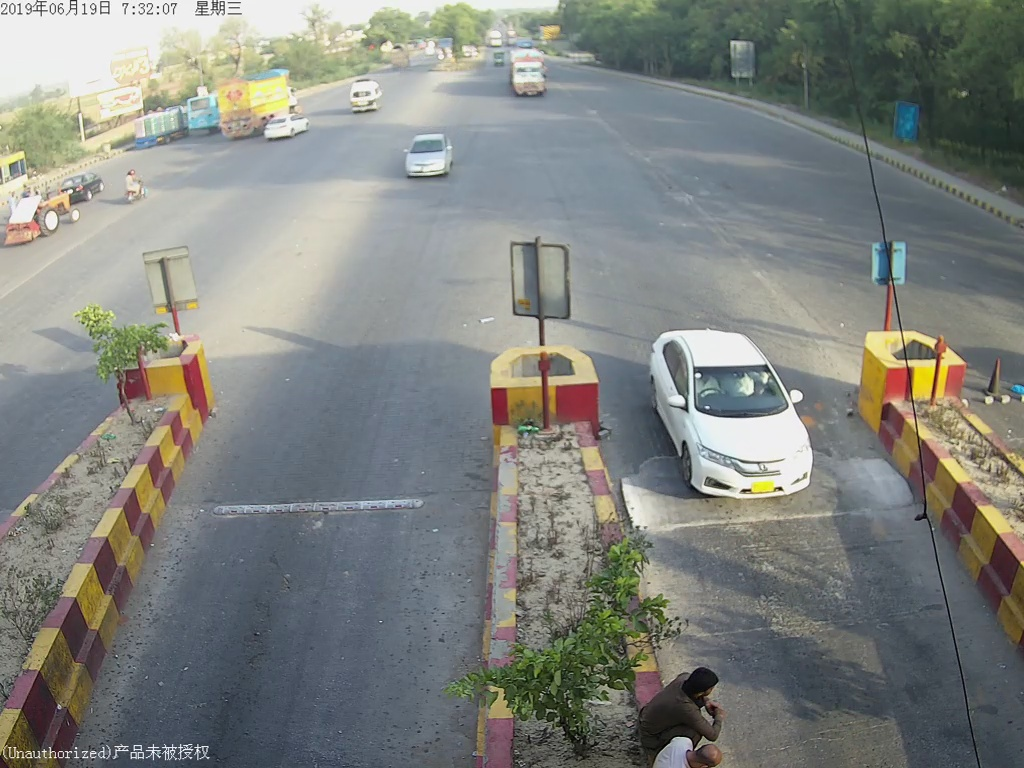Cat-1: (648, 318, 836, 520), (395, 130, 456, 190)
